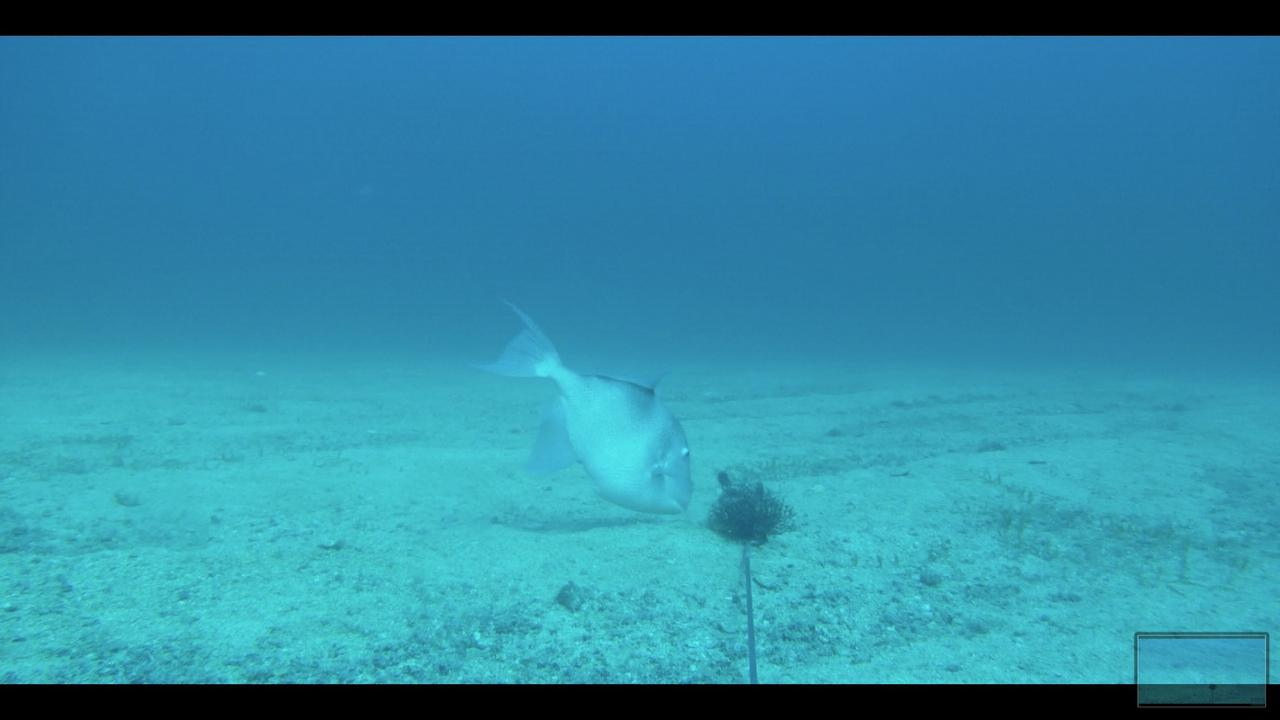balistes: (455, 279, 701, 525)
